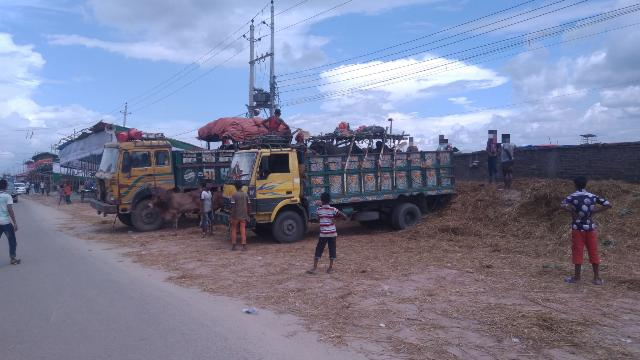car: (16, 176, 27, 201)
truck: (222, 134, 458, 240), (94, 126, 229, 234)
